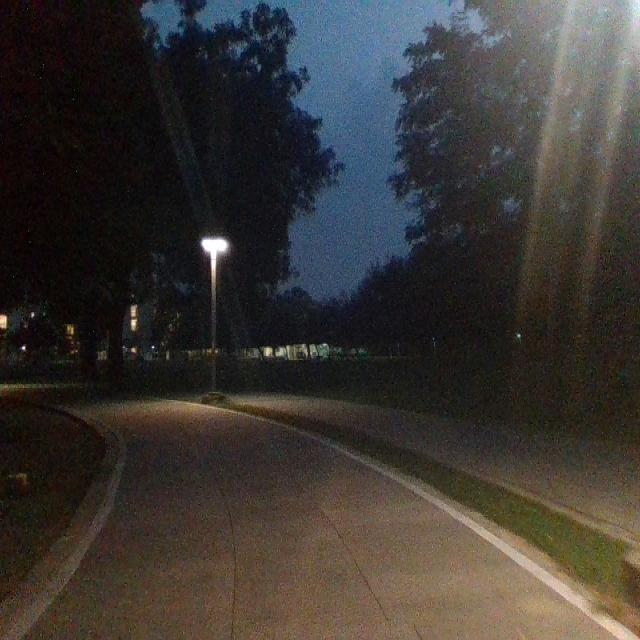lane: (31, 400, 614, 636)
